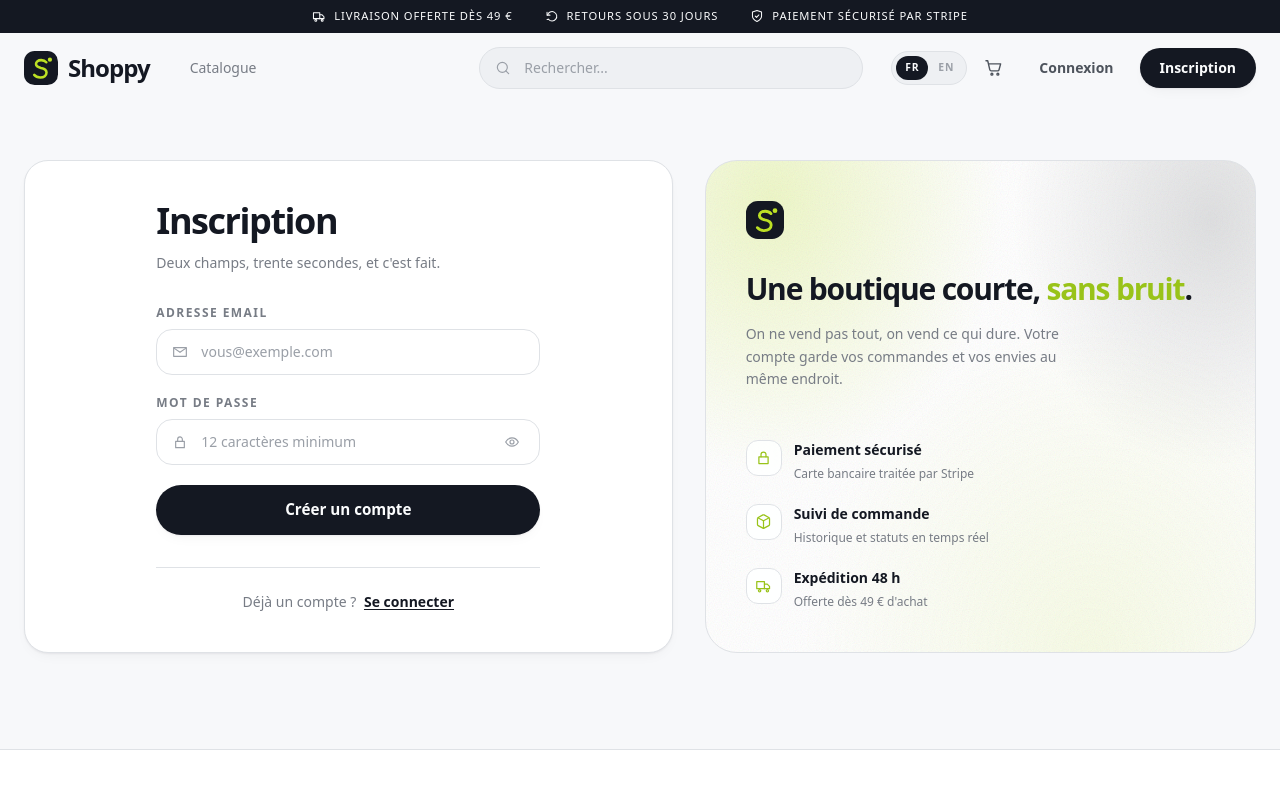
Test: RegisterPage › registers without logging in
Type "Ada@shoppy.test" into the field labelled "Adresse email".
click(348, 352); type("Ada@shoppy.test")  # box [156,329,540,375]
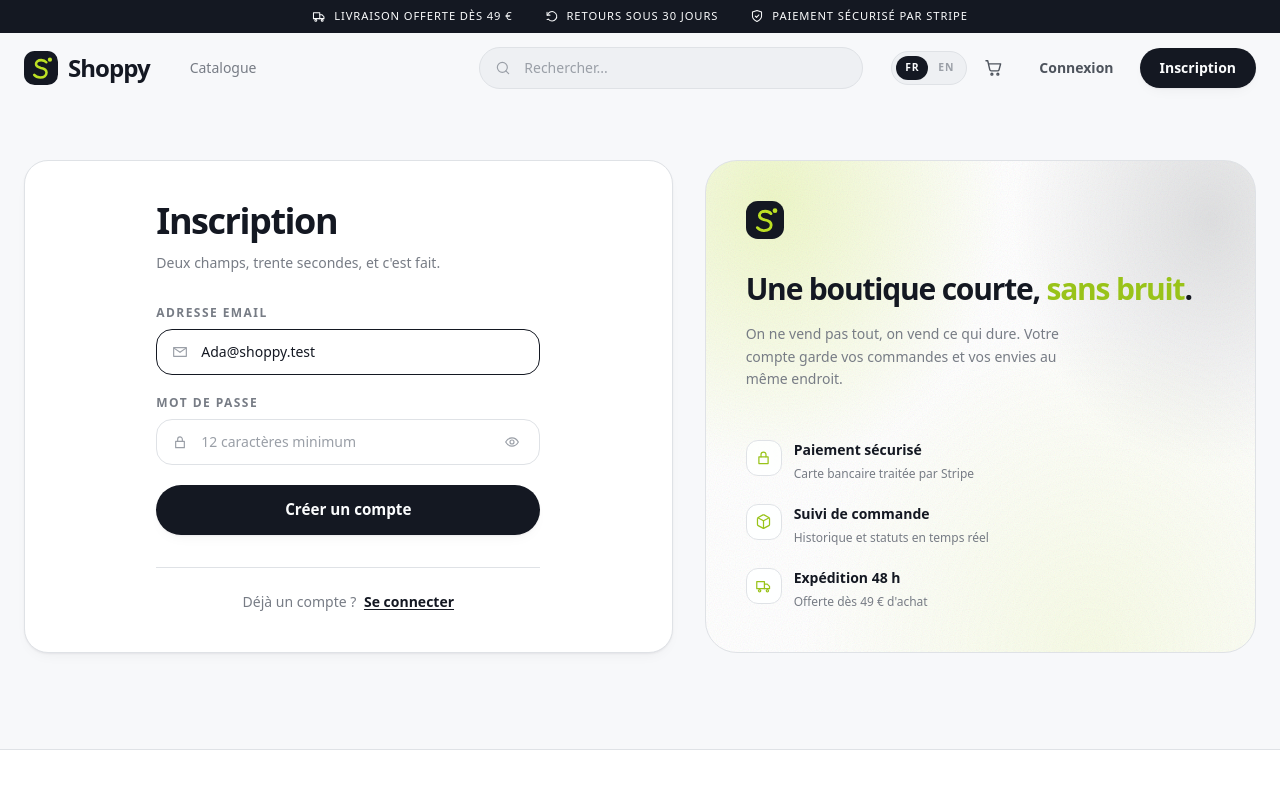
Type "password1234" into the password field labelled "Mot de passe".
click(348, 442); type("password1234")  # box [156,419,540,465]
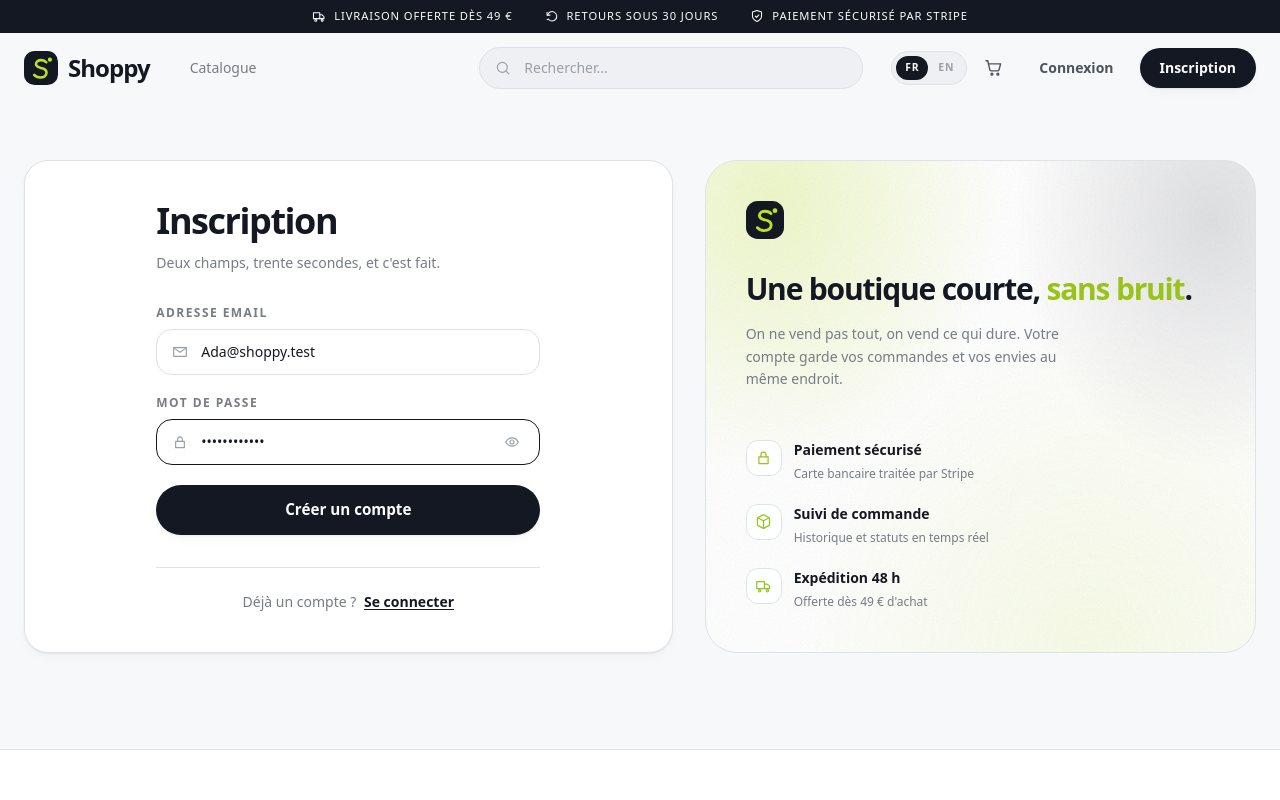
Click the button "Créer un compte".
click(348, 510)  # box [156,485,540,534]
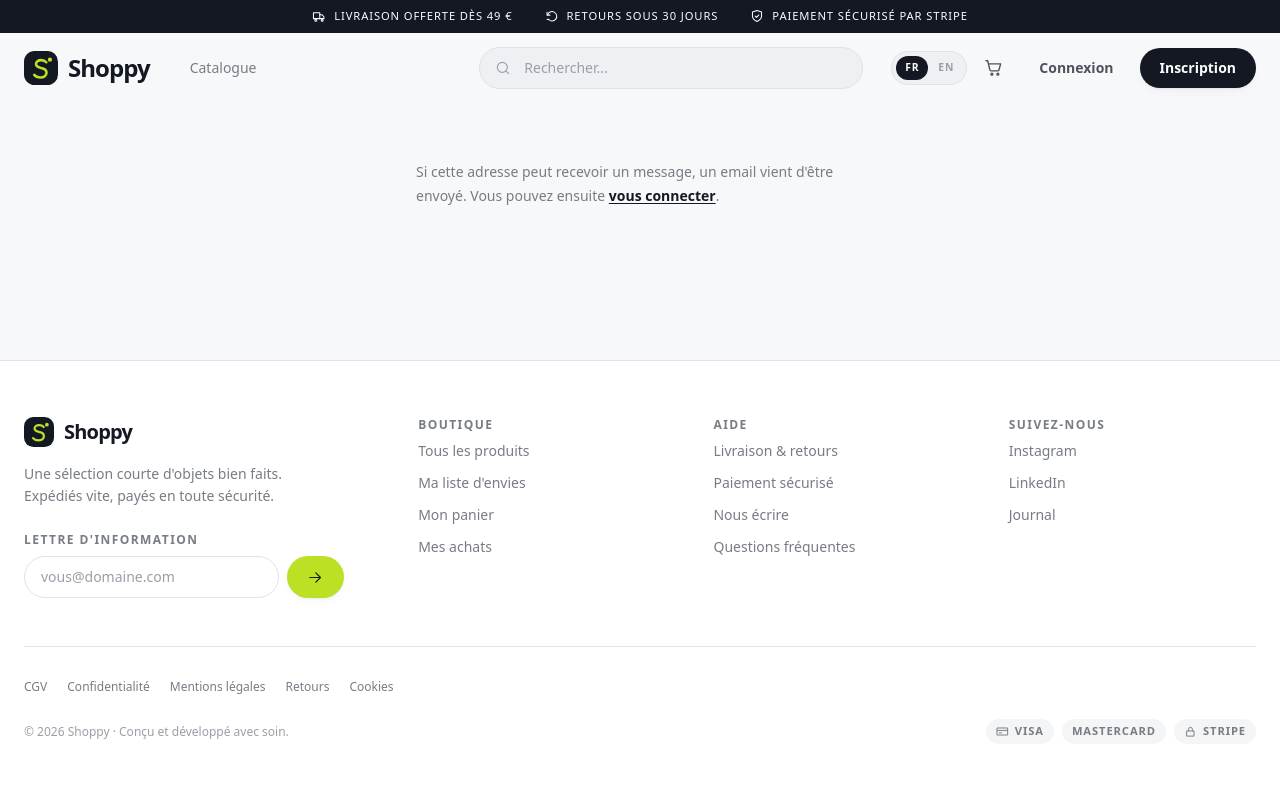
Expected: the text "un email vient d'être envoyé" is shown, [416,162,833,205]
